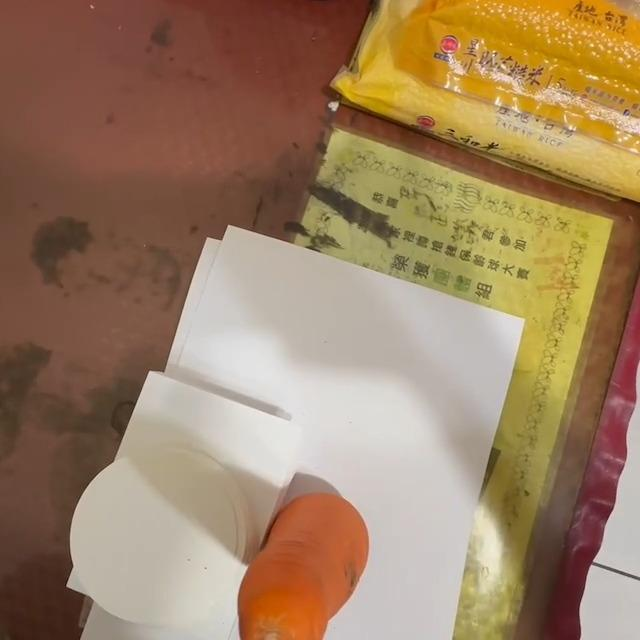carrot: (236, 492, 372, 640)
